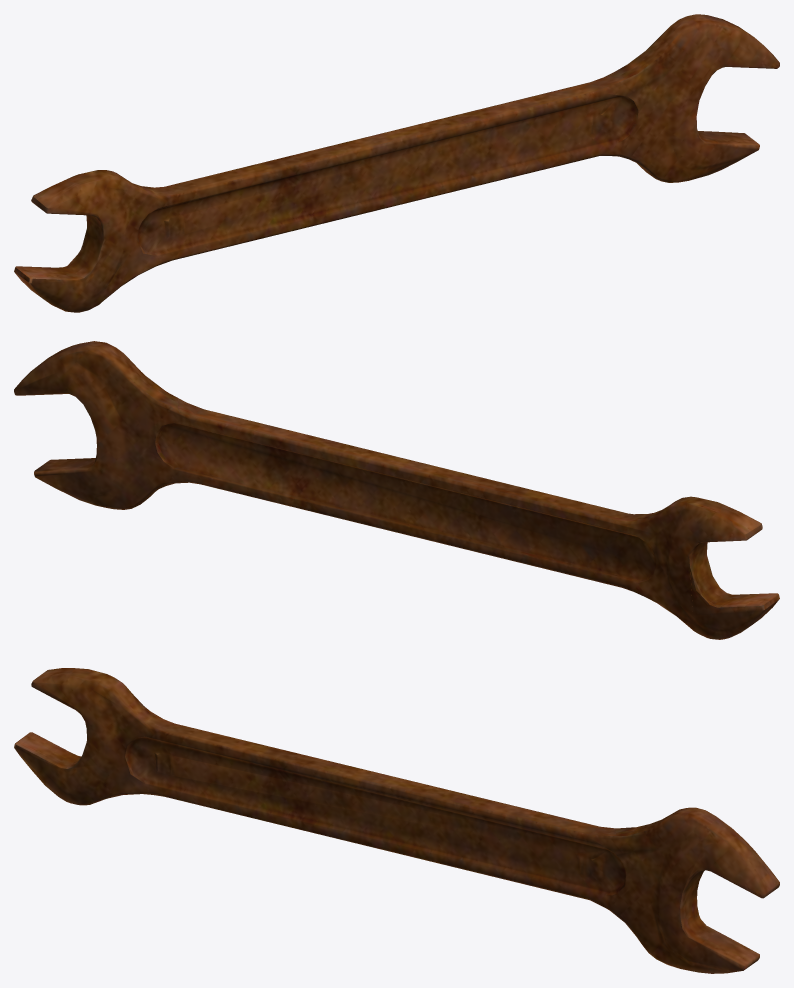
Rendered from rusty_wrench.glb.
The picture shows the model from 3 angles, top to bottom: view 1: azimuth 30°, elevation 25°; view 2: azimuth 150°, elevation 25°; view 3: azimuth 330°, elevation 25°; orthographic projection.
Visible parts, largest first — view 1: rusty_wrench; view 2: rusty_wrench; view 3: rusty_wrench.
Boxes of the visible parts, <box> form: rusty_wrench: <box>14,14,779,312</box>; rusty_wrench: <box>14,341,779,639</box>; rusty_wrench: <box>14,668,779,973</box>.
Size of what is drawn, in the model's own units: 0.2 by 0.0398 by 0.00792.
1 material, 1 textured.
